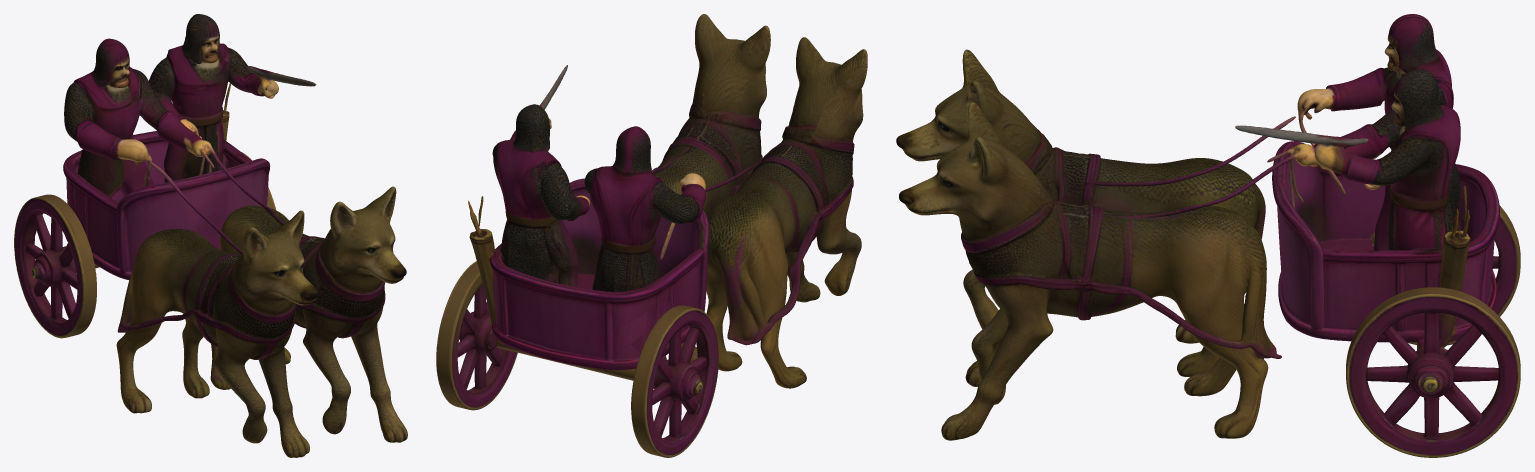
3 views of the same model, side by side, from view 1: azimuth 30°, elevation 25°; view 2: azimuth 150°, elevation 25°; view 3: azimuth 270°, elevation 25° (orthographic). The views are drawn at different scales.
Visible parts, largest first — view 1: tripo_node_8b4d5c74-03ef-452b-be8d-9003d2c306ff; view 2: tripo_node_8b4d5c74-03ef-452b-be8d-9003d2c306ff; view 3: tripo_node_8b4d5c74-03ef-452b-be8d-9003d2c306ff.
Part boxes in pixels (bbox=[...]): tripo_node_8b4d5c74-03ef-452b-be8d-9003d2c306ff: bbox=[14, 14, 407, 457]; tripo_node_8b4d5c74-03ef-452b-be8d-9003d2c306ff: bbox=[436, 14, 867, 457]; tripo_node_8b4d5c74-03ef-452b-be8d-9003d2c306ff: bbox=[896, 14, 1520, 457].
Bounding box in the file's own units: 0.5297 × 0.6433 × 1.
1 material, 1 textured.
